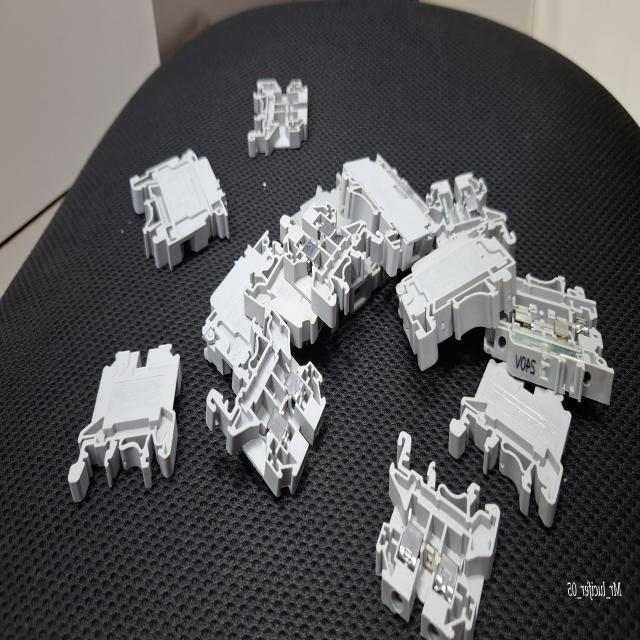Inverted: (66, 334, 182, 504)
Pass: (350, 426, 506, 640), (206, 301, 340, 504), (274, 180, 391, 332)
Reject: (246, 66, 308, 154)
